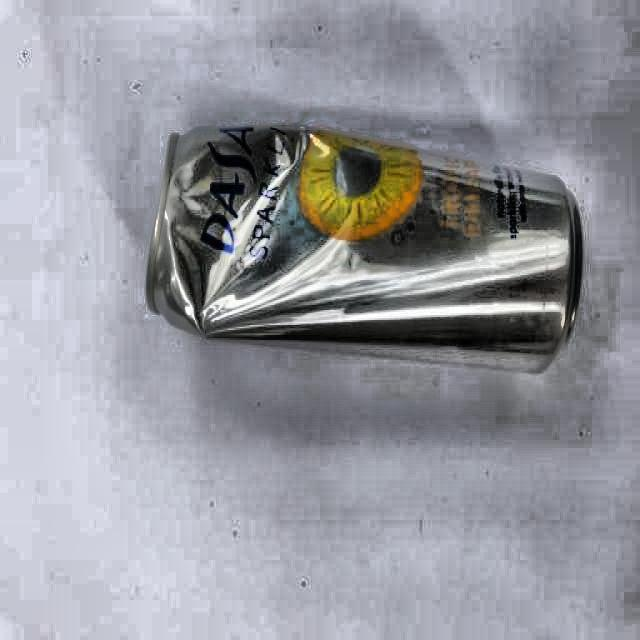metal: (144, 125, 585, 377)
